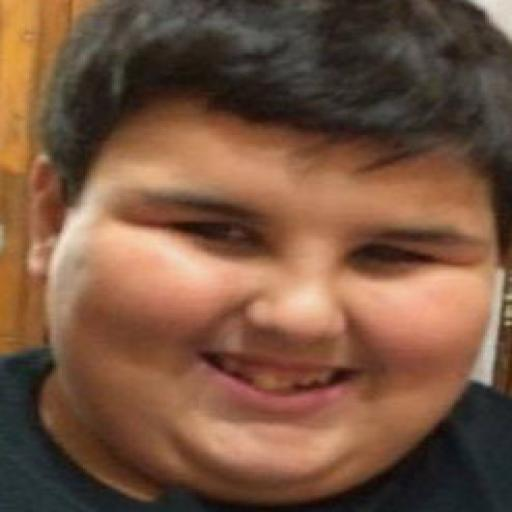Autism: (48, 6, 512, 485)
